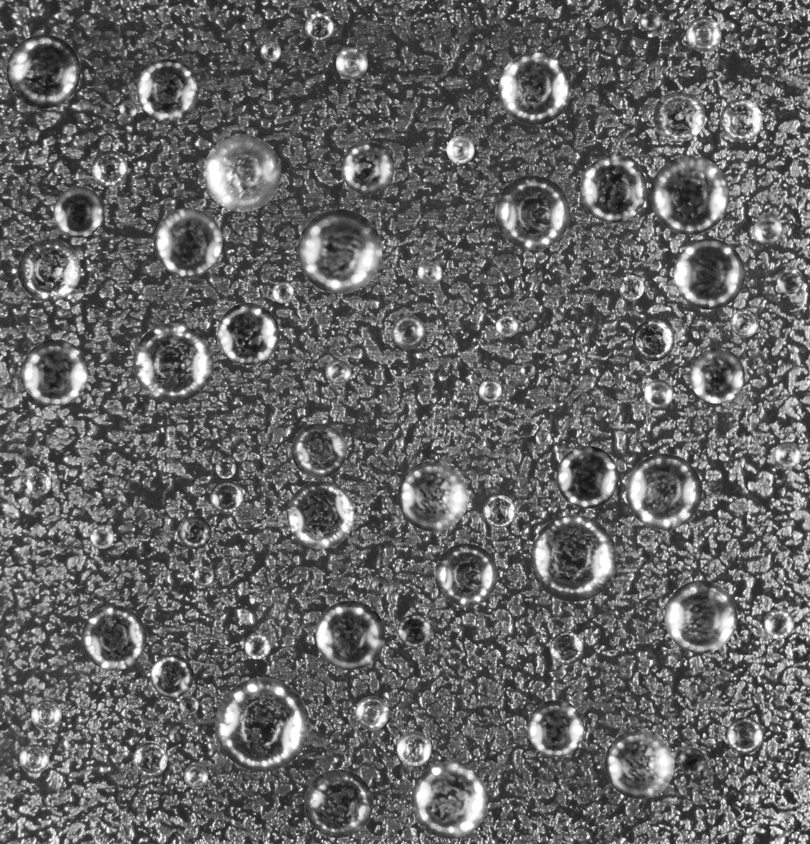Bubble: (215, 677, 309, 771), (530, 514, 617, 601), (297, 209, 382, 293), (650, 155, 729, 234), (133, 323, 212, 402), (411, 761, 488, 838), (203, 134, 280, 211), (626, 453, 702, 529), (495, 175, 570, 250), (6, 34, 80, 108), (498, 52, 571, 125), (664, 580, 737, 653), (397, 460, 468, 531), (674, 238, 745, 309), (315, 600, 385, 670), (604, 729, 674, 799), (153, 208, 222, 276), (304, 769, 373, 837), (286, 481, 354, 548), (580, 155, 647, 222), (22, 339, 88, 405), (81, 605, 146, 670), (434, 543, 497, 606), (17, 238, 80, 301), (217, 302, 279, 365), (556, 446, 618, 508), (136, 59, 198, 120), (527, 700, 584, 756), (689, 348, 744, 403), (291, 423, 346, 478), (340, 140, 394, 194), (653, 90, 704, 141), (53, 186, 104, 237), (150, 654, 193, 698), (632, 319, 674, 361), (720, 99, 762, 141), (727, 717, 763, 753), (91, 150, 127, 186), (396, 731, 431, 766), (686, 16, 721, 51), (355, 696, 389, 730), (177, 515, 211, 549), (133, 742, 167, 776), (549, 631, 583, 665), (392, 315, 425, 349), (397, 614, 430, 647), (482, 494, 515, 527), (210, 480, 243, 513), (335, 47, 367, 79), (31, 699, 61, 730), (764, 609, 794, 639), (19, 744, 49, 773), (304, 12, 333, 41), (753, 215, 782, 244), (644, 379, 673, 408), (730, 309, 758, 337), (446, 135, 474, 163), (678, 747, 705, 774), (774, 441, 801, 468), (244, 633, 270, 659), (325, 359, 351, 384), (777, 268, 802, 294), (619, 275, 644, 300), (417, 260, 442, 285), (26, 471, 51, 495), (184, 764, 208, 788), (495, 314, 518, 337), (90, 525, 113, 548), (479, 379, 501, 402), (272, 281, 293, 303), (193, 566, 213, 586), (215, 458, 235, 478), (641, 10, 661, 30), (260, 41, 280, 61), (179, 696, 198, 715), (370, 576, 389, 595), (119, 100, 137, 118), (535, 430, 551, 445), (520, 363, 535, 378), (576, 323, 589, 336)
